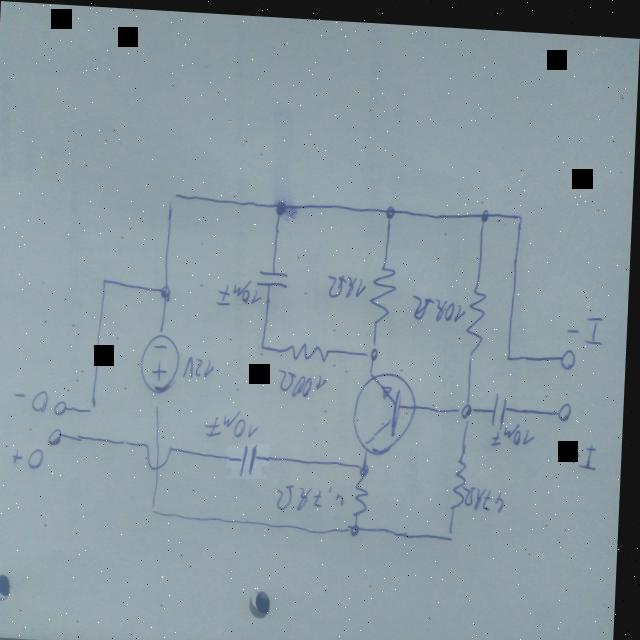capacitor: (241, 435, 262, 476), (492, 384, 511, 426), (257, 264, 293, 286)
crossover: (142, 439, 177, 468)
junction: (165, 182, 182, 205), (358, 454, 375, 475), (274, 192, 290, 214), (367, 339, 384, 359), (461, 395, 477, 415), (383, 197, 400, 215), (149, 496, 165, 515), (349, 516, 366, 533), (160, 280, 175, 299), (87, 395, 102, 414), (447, 521, 461, 537), (479, 200, 492, 217), (101, 272, 113, 289), (260, 333, 271, 351), (506, 342, 517, 357), (515, 205, 526, 219)
resistor: (369, 256, 400, 321), (465, 277, 490, 354), (289, 336, 334, 360), (453, 449, 471, 506), (354, 471, 374, 515)
source: (141, 328, 184, 394)
terminal: (560, 337, 580, 364), (557, 392, 578, 417), (49, 423, 67, 446), (56, 395, 70, 418)
text: (277, 476, 350, 511), (205, 404, 263, 437), (411, 288, 469, 318), (278, 363, 331, 395), (218, 274, 265, 306), (566, 305, 607, 338), (466, 478, 510, 507), (492, 415, 539, 442), (327, 267, 370, 295), (13, 385, 54, 414), (570, 432, 603, 463), (12, 445, 49, 470), (185, 351, 220, 377)
transistor: (353, 363, 422, 454)
